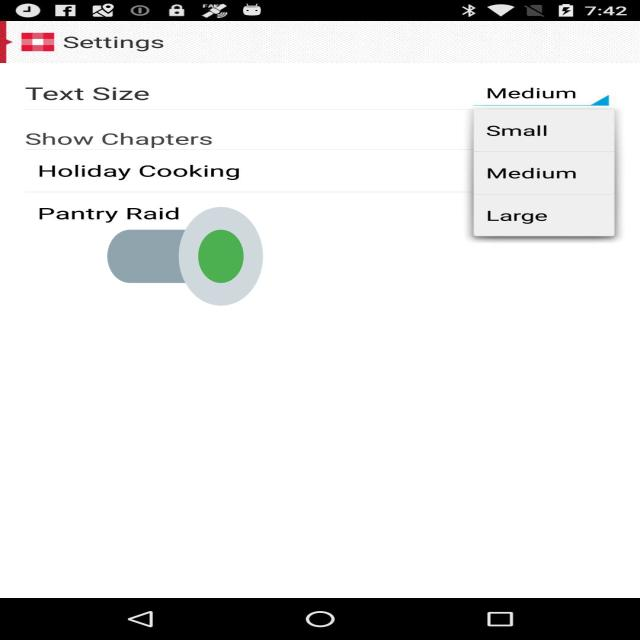social proof: (107, 165, 263, 348)
